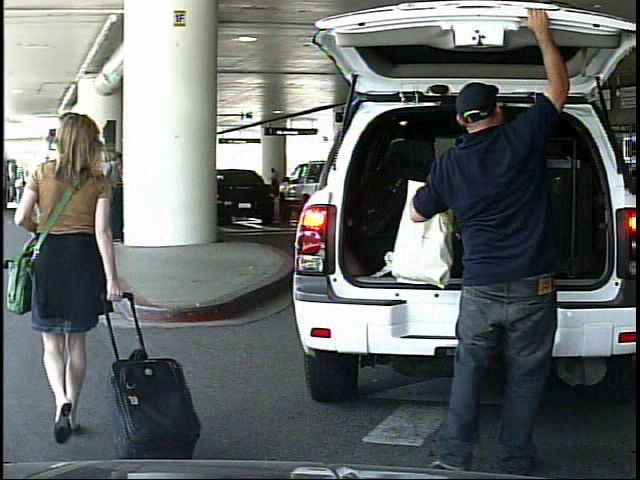person: (395, 7, 581, 480), (29, 107, 159, 442), (269, 165, 283, 199), (14, 173, 24, 202)
